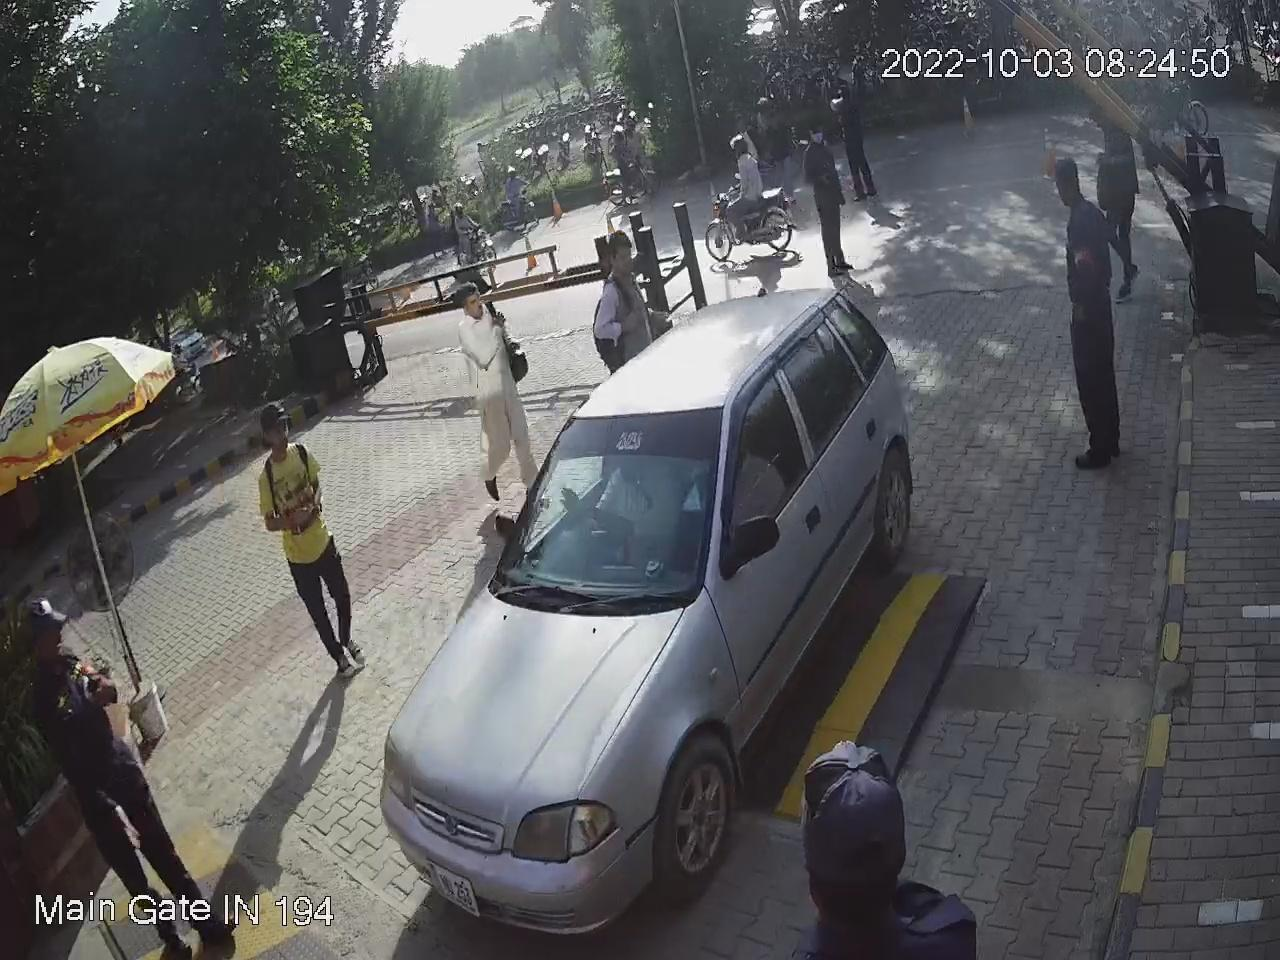windshield: (481, 415, 726, 605)
